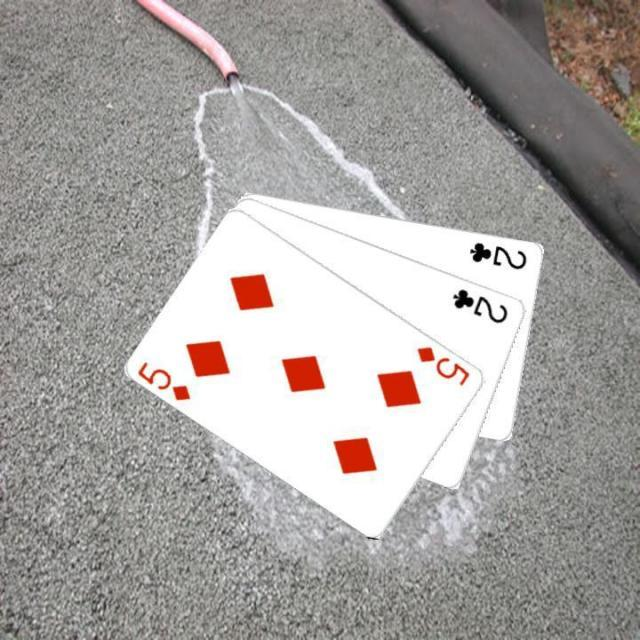2C: (448, 284, 511, 326), (466, 237, 529, 271)
5D: (413, 342, 473, 388), (134, 357, 193, 403)
